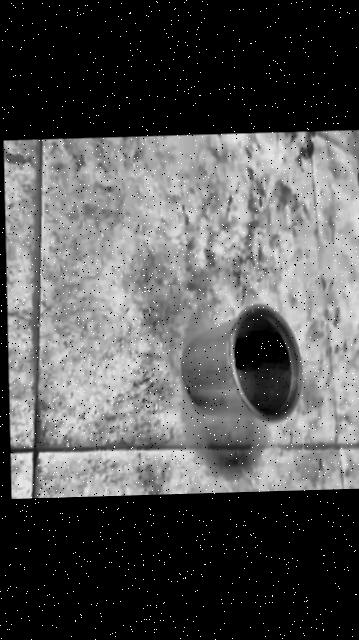pot: (180, 304, 302, 424)
